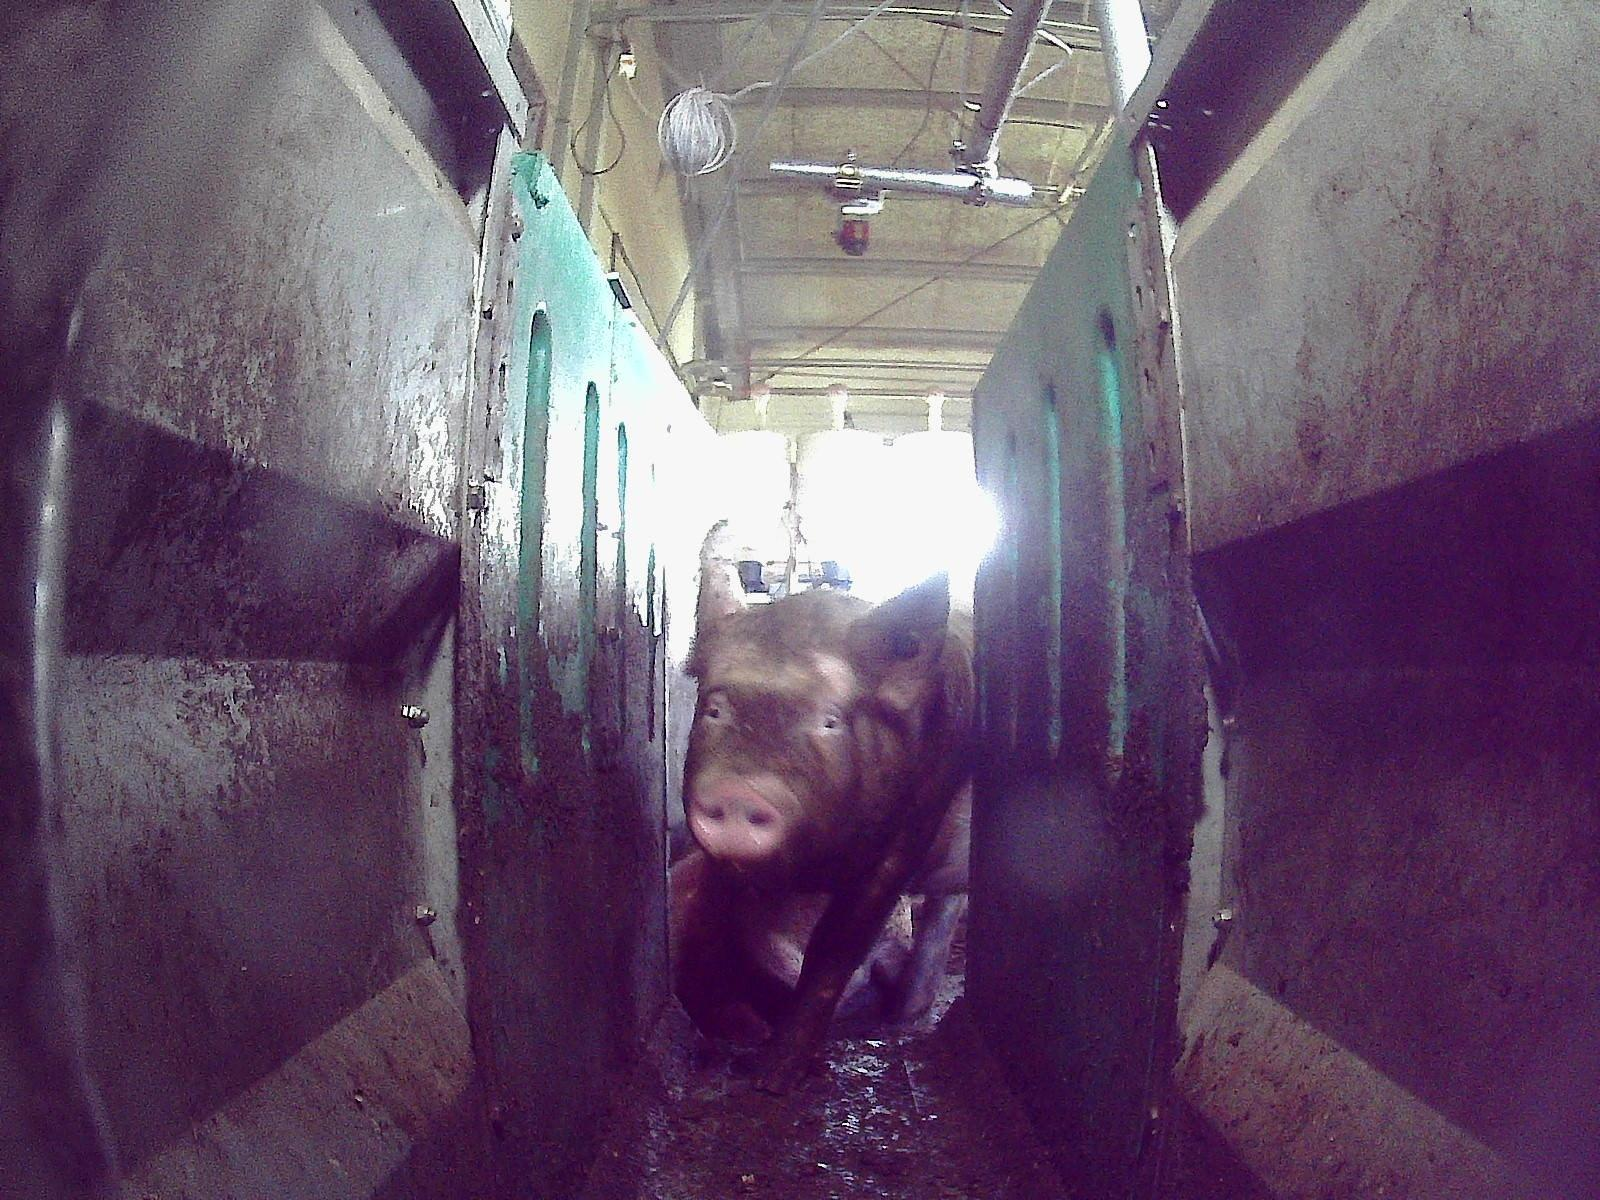Face: (683, 607, 876, 881)
